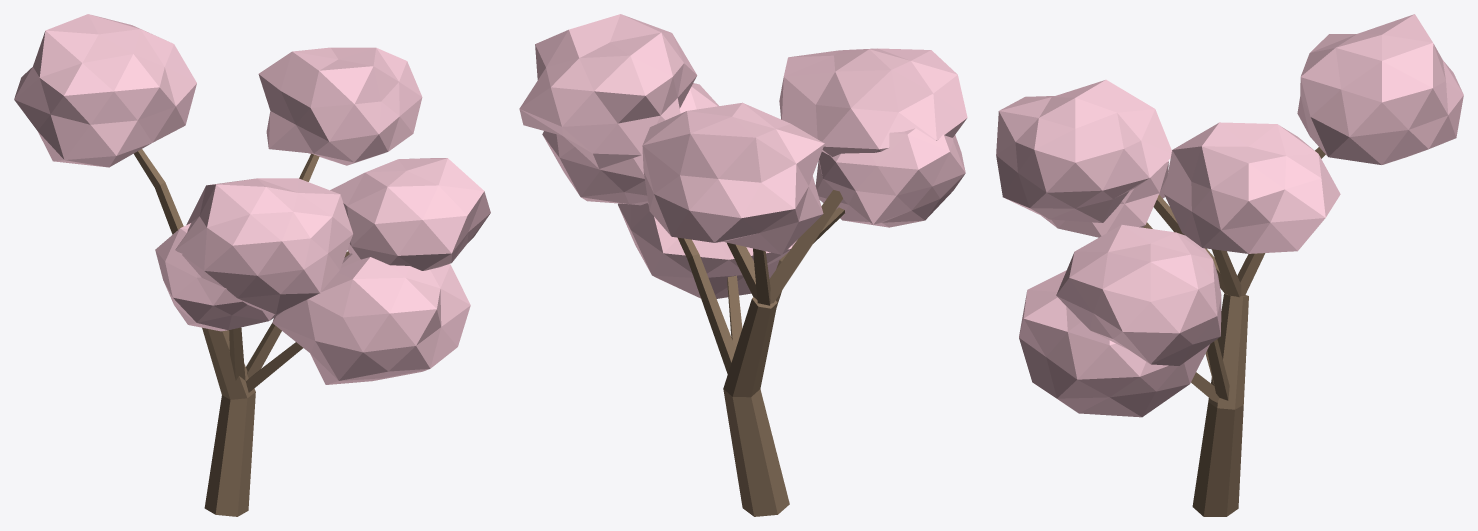
File: plum_tree.glb
3 views of the same model, side by side, from view 1: azimuth 30°, elevation 25°; view 2: azimuth 150°, elevation 25°; view 3: azimuth 270°, elevation 25° (orthographic). The views are drawn at different scales.
Parts seen in each view (by area): view 1: plum_tree; view 2: plum_tree; view 3: plum_tree.
Boxes of the visible parts, x1,y1,x2,y2 form: plum_tree: (14,14,490,516); plum_tree: (519,14,967,516); plum_tree: (996,14,1463,516).
Size of the model in its own units: 3.94 by 4.74 by 4.46.
